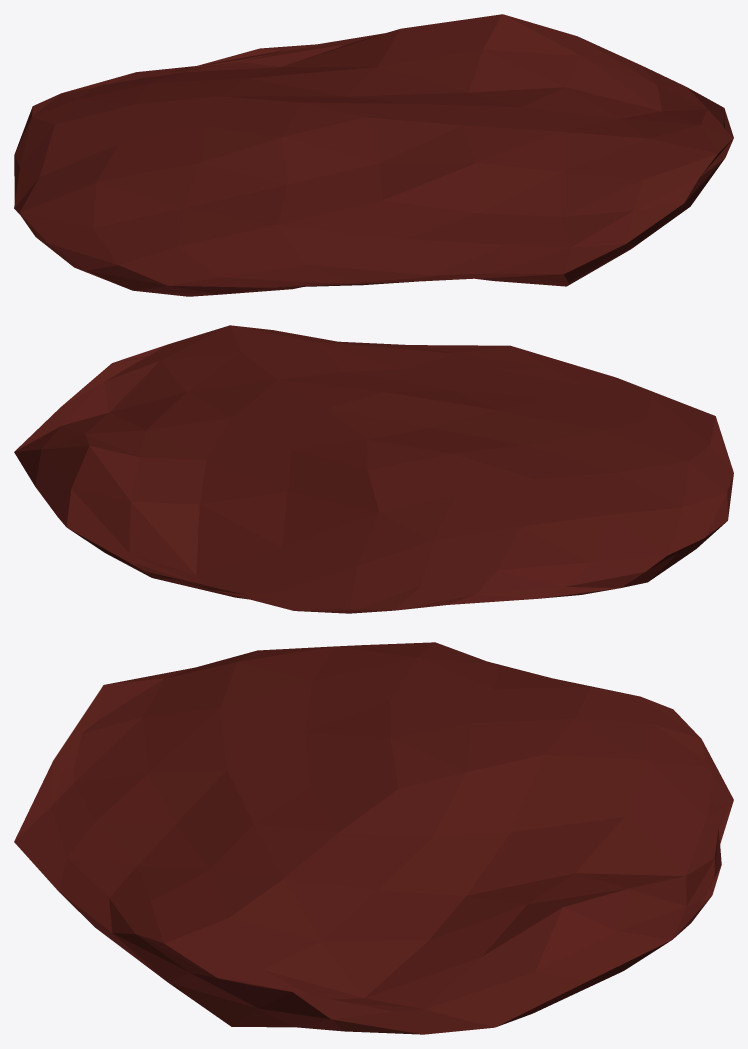
The model's file is Asteroid.fbx.
The picture shows the model from 3 angles, top to bottom: view 1: azimuth 30°, elevation 25°; view 2: azimuth 150°, elevation 25°; view 3: azimuth 270°, elevation 25°; orthographic projection. The views are drawn at different scales.
Parts seen in each view (by area): view 1: Icosphere; view 2: Icosphere; view 3: Icosphere.
Boxes of the visible parts, x1=… form: Icosphere: x1=14, y1=14, x2=733, y2=296; Icosphere: x1=14, y1=325, x2=733, y2=613; Icosphere: x1=14, y1=642, x2=733, y2=1034.
Bounding box in the file's own units: 2228 × 328 × 1903.
Materials: 1 (1 with a texture image).
